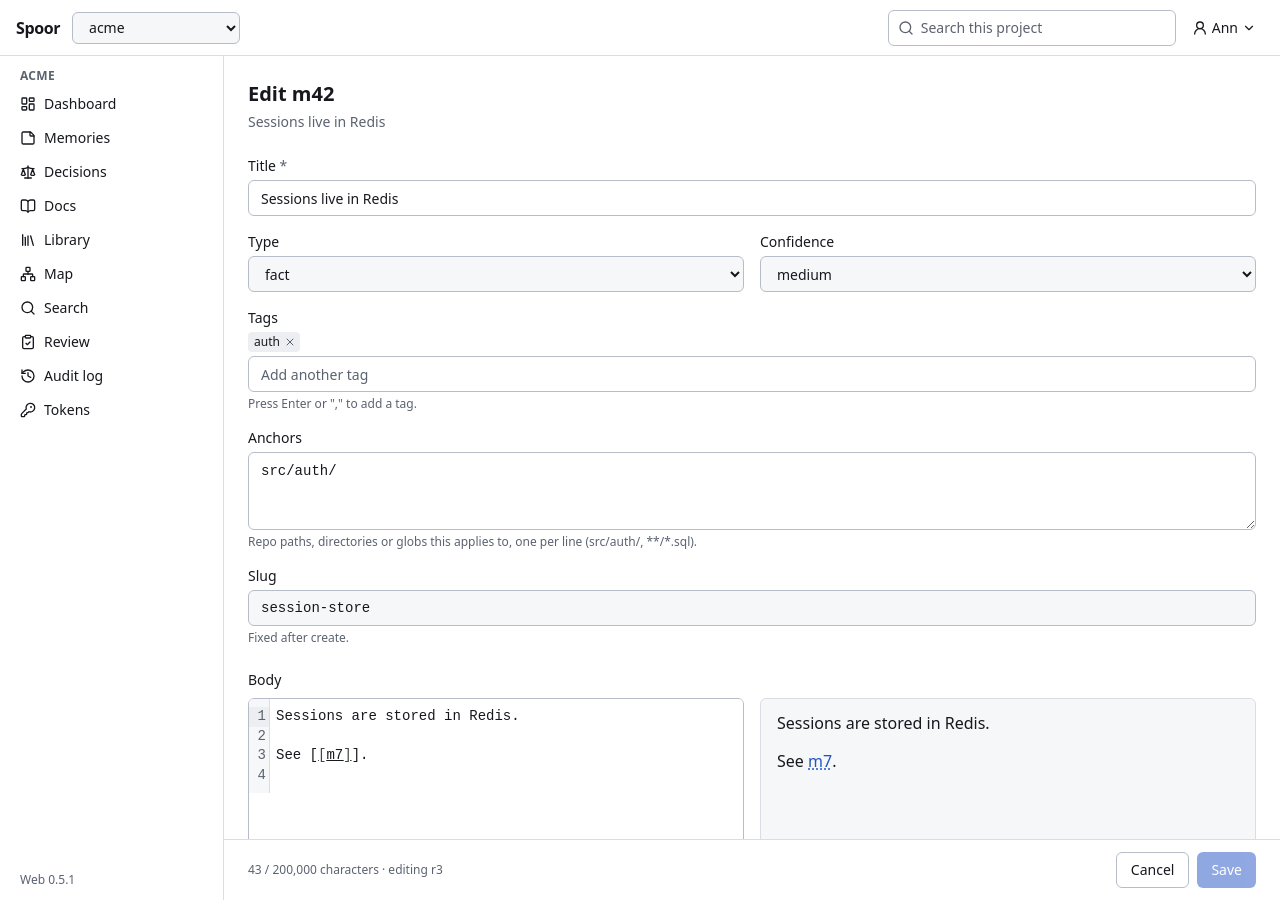
Test: editor: revision conflict › shows who saved the newer revision, compares, and saves my changes over it
Expected: the button "Save" is disabled, [1197,852,1256,888]
Expected: the text "43 / 200,000 characters · editing r3" is shown, [248,862,443,878]
Type " 7" into the field labelled "Title *" at [752, 198], box [248,180,1256,216]
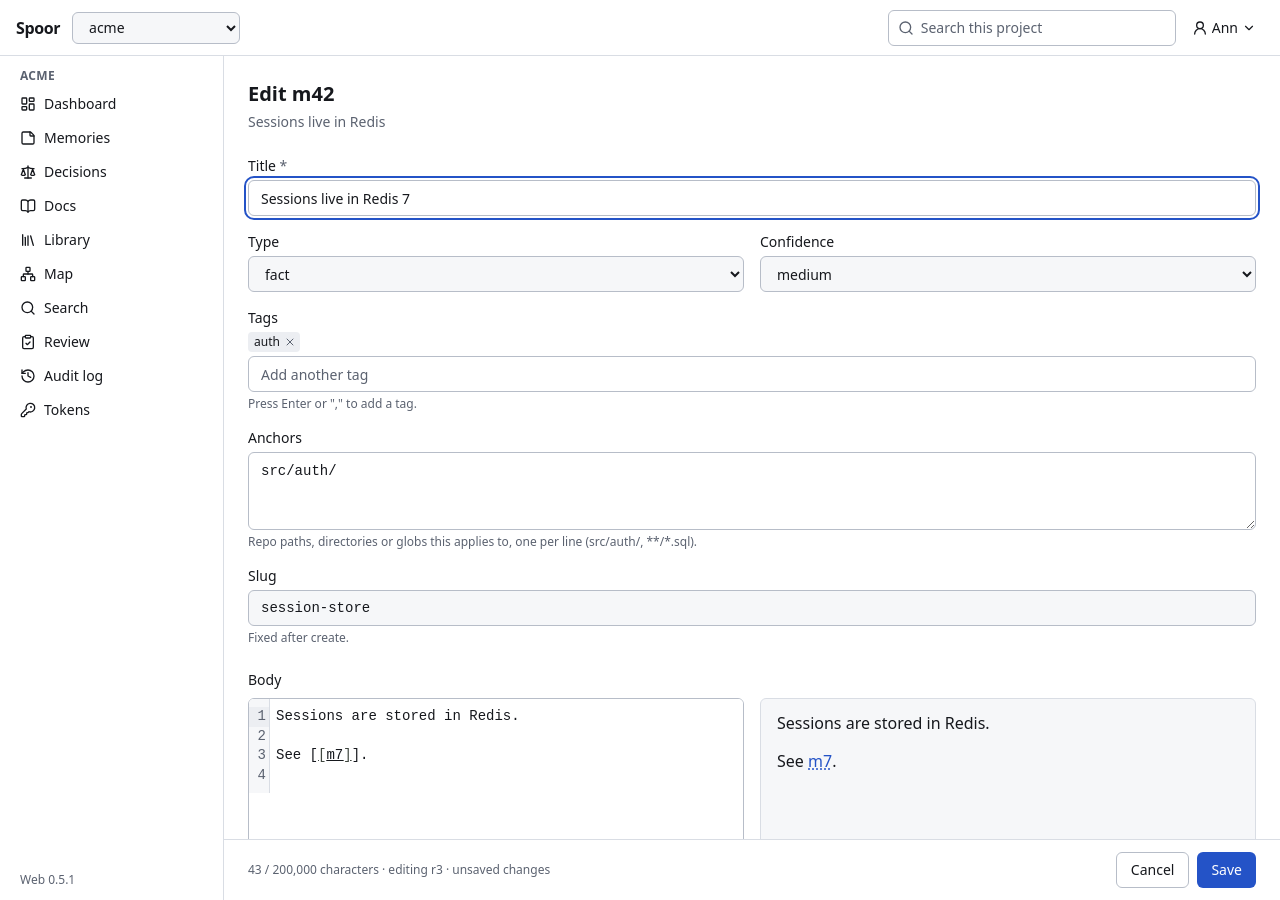
Result: the button "Save" is enabled
Click the button "Save" at [1227, 870], box [1197,852,1256,888]
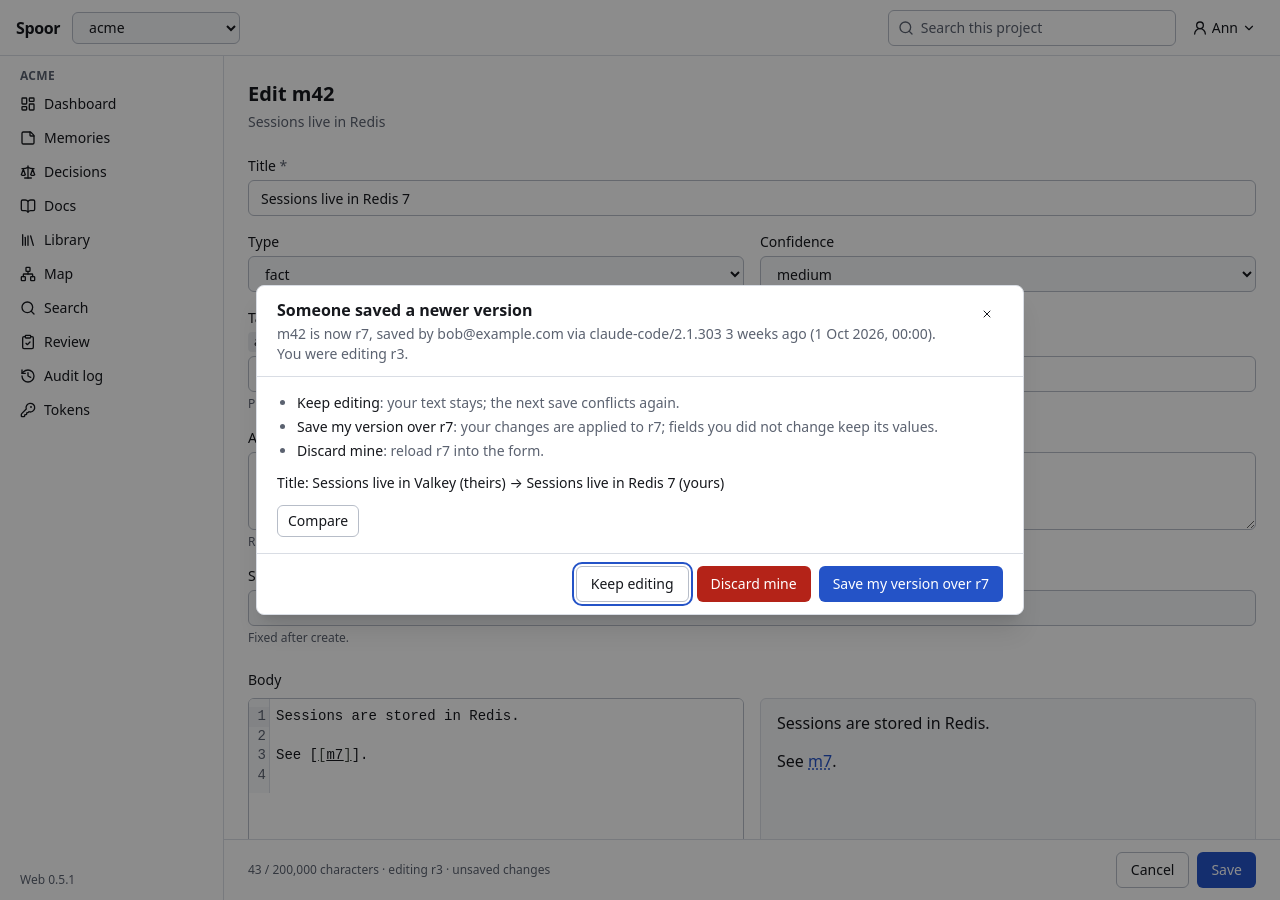
Click the button "Compare" at [318, 521], box [277,505,359,537]
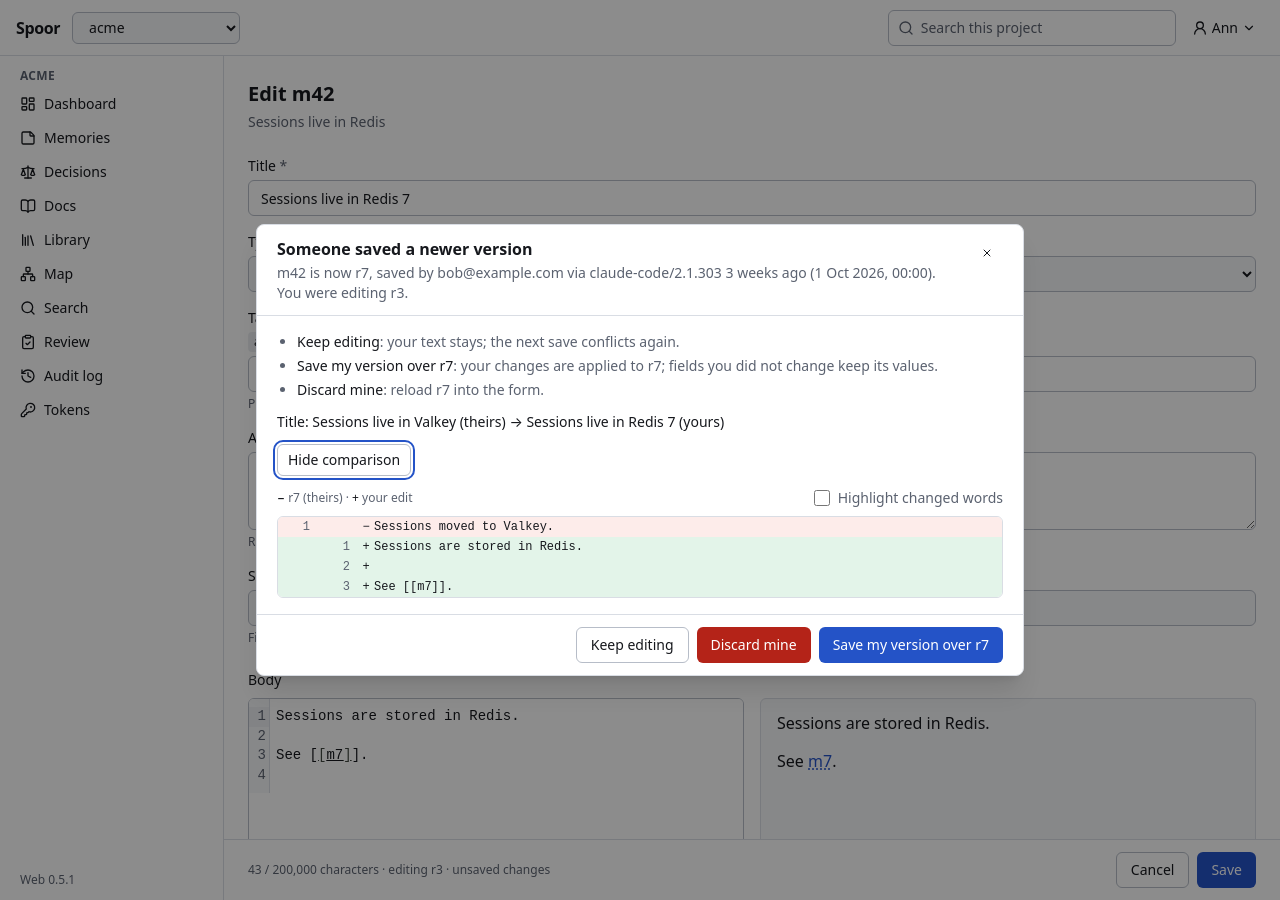
Result: the text "Sessions moved to Valkey." is shown at [374,517,566,537]
Click the button "Save my version over r7" at [911, 645], box [819,627,1003,663]
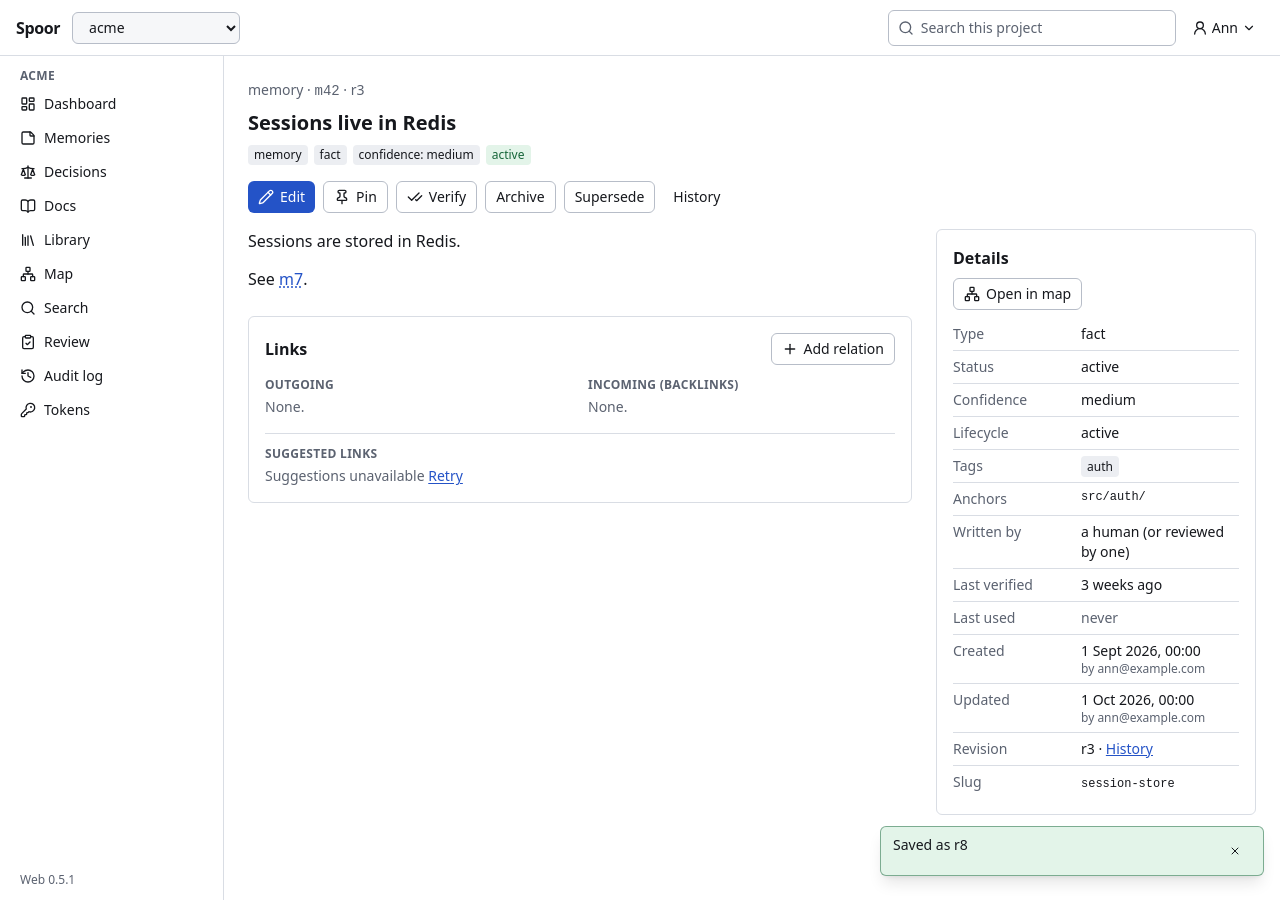
Result: the text "Saved as r8" is shown at [893,835,968,854]
